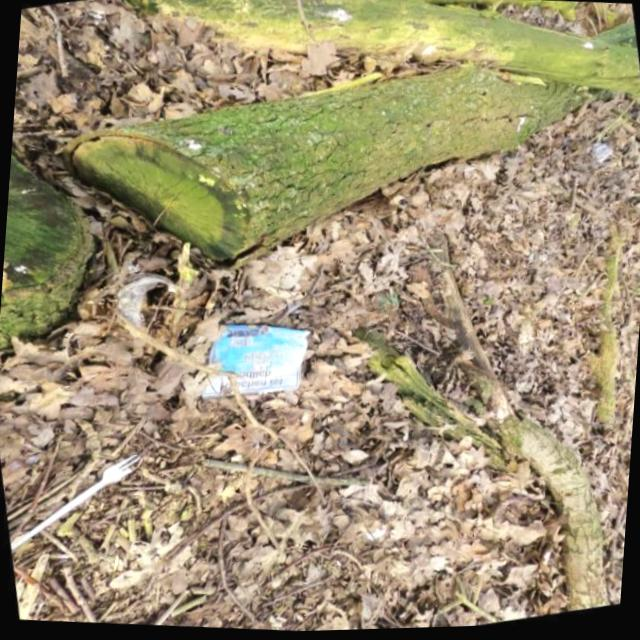Paper: (198, 317, 313, 407)
